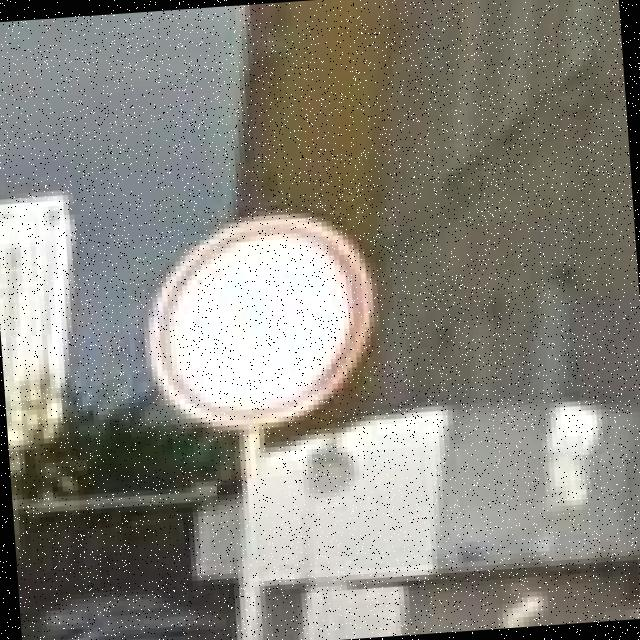Zakaz ruchu w obu kierunkach: (136, 208, 381, 441)
